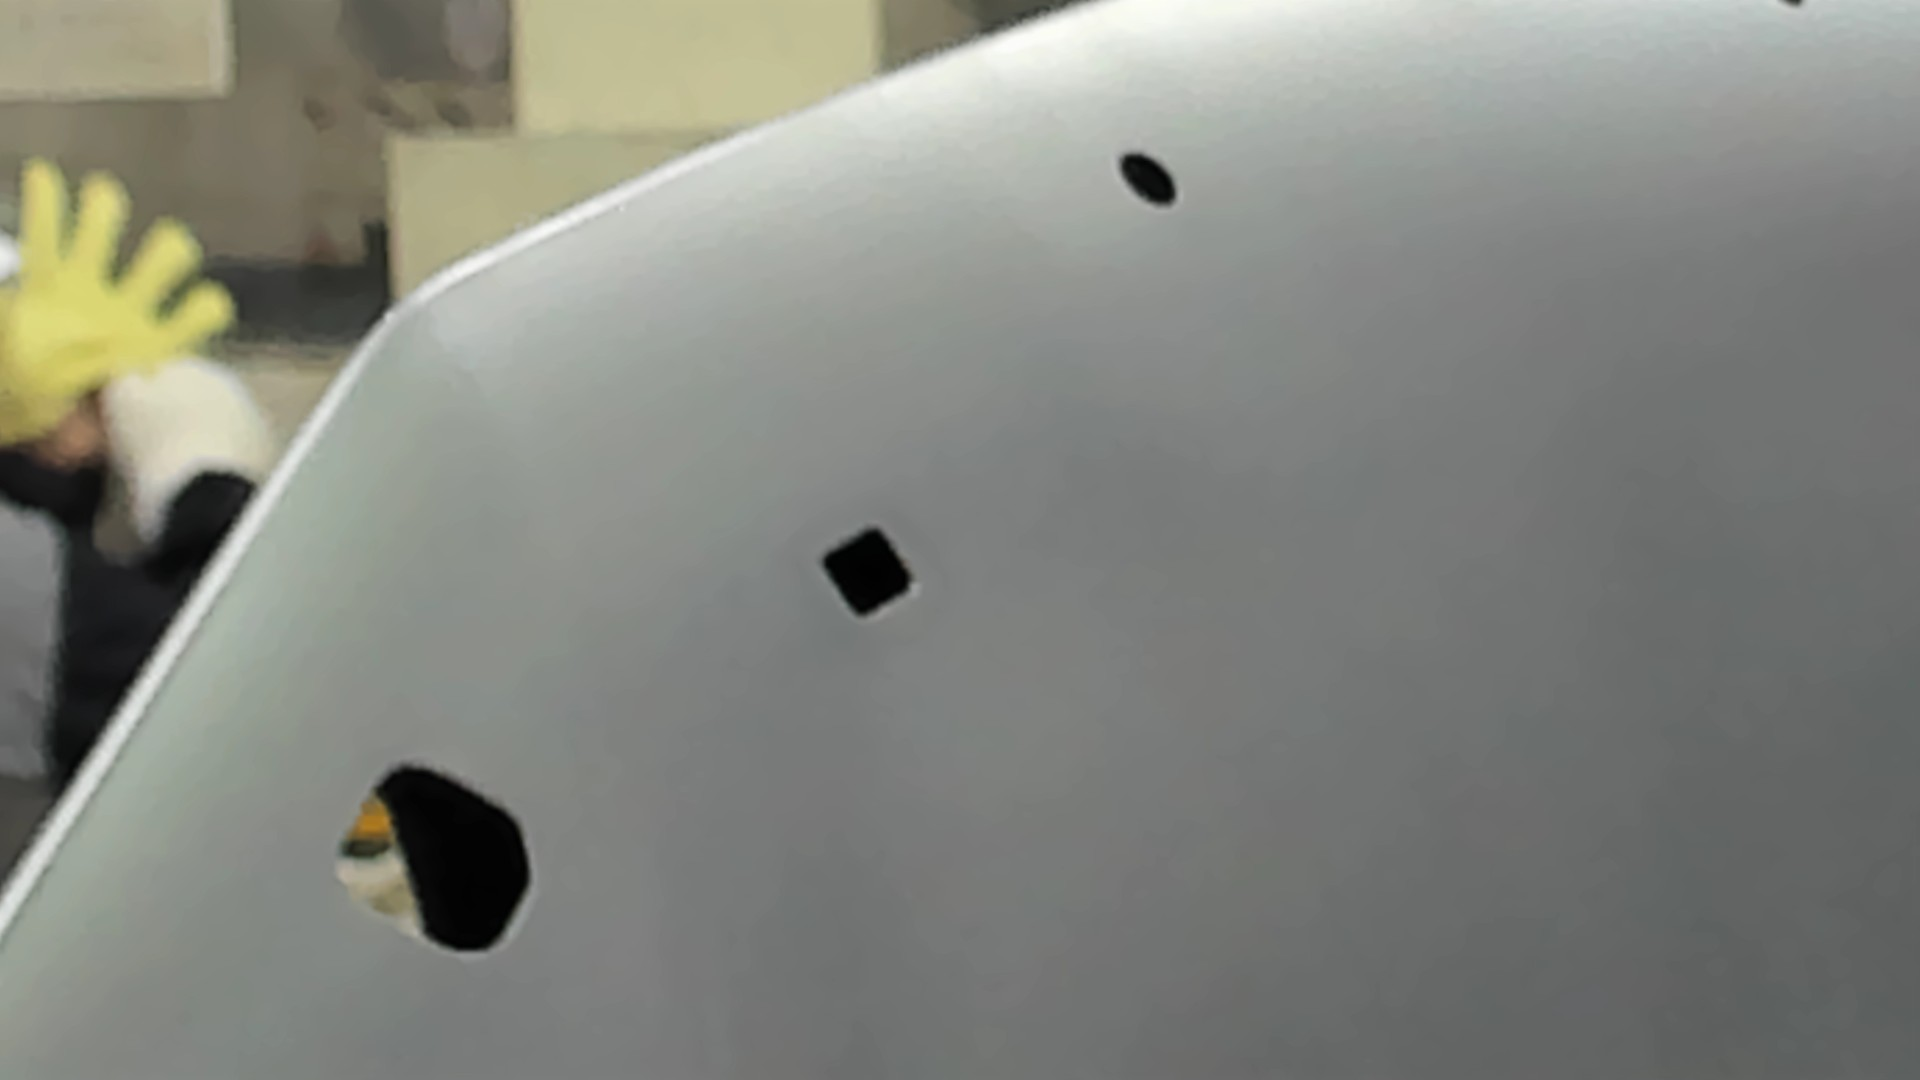chico: (1114, 146, 1182, 214)
grande: (328, 764, 535, 961)
mediano: (811, 522, 919, 629)
